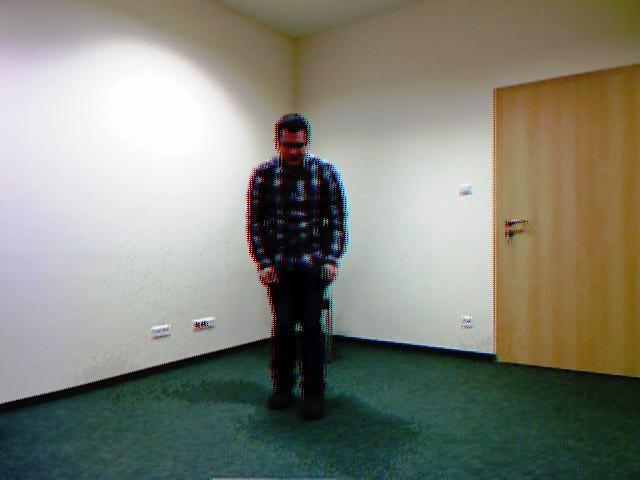standing: (238, 108, 351, 435)
